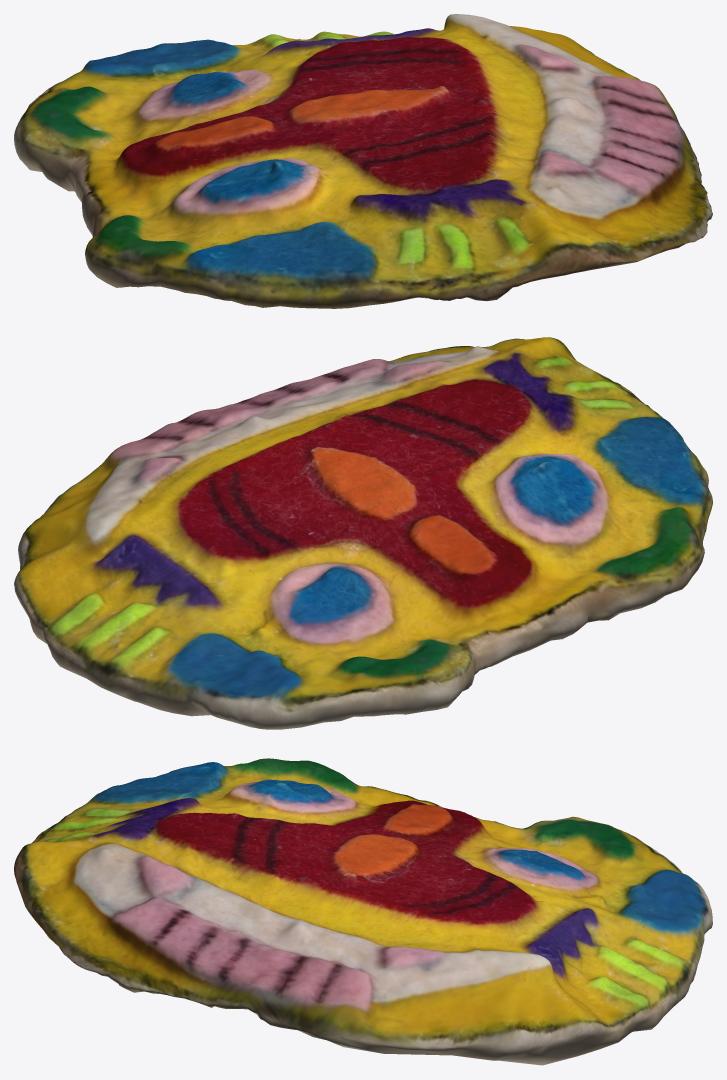
3 views of the same model, one above another, from view 1: azimuth 30°, elevation 25°; view 2: azimuth 150°, elevation 25°; view 3: azimuth 270°, elevation 25° (orthographic). The views are drawn at different scales.
Size of the model in its own units: 0.6535 by 0.1564 by 0.7446.
1 material, 1 textured.
